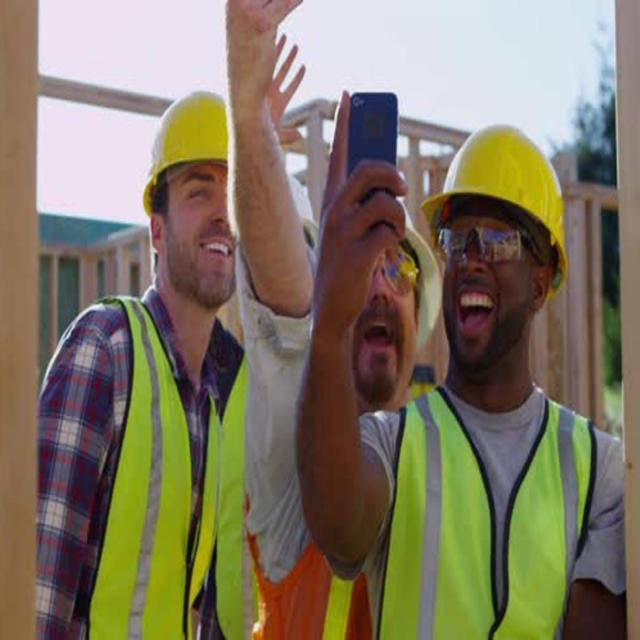helmet: (421, 122, 567, 255)
